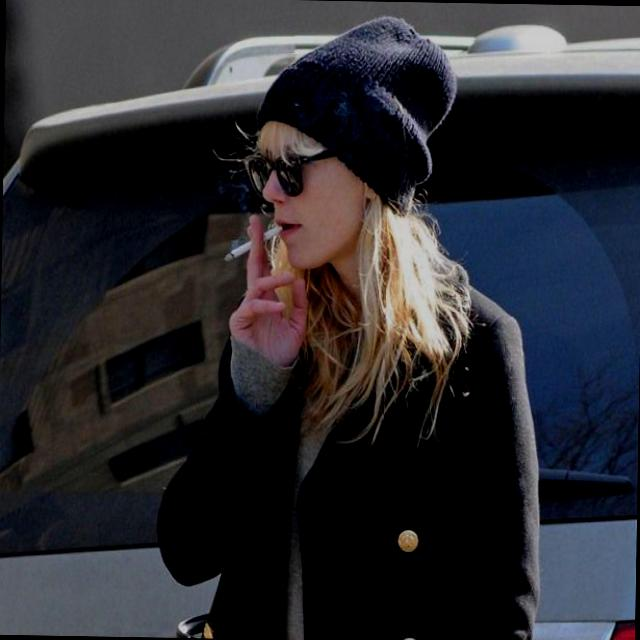smoke: (218, 210, 296, 269)
